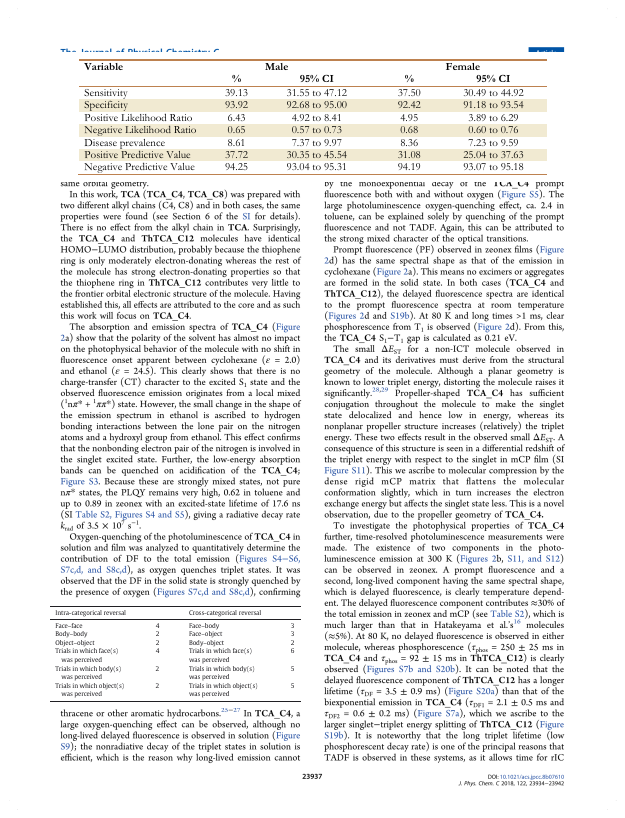borderless: (79, 57, 547, 174), (49, 604, 301, 701)
cell: (83, 125, 197, 137), (83, 162, 195, 174), (83, 112, 193, 124), (83, 150, 191, 162), (54, 682, 125, 699), (188, 682, 259, 699), (54, 664, 122, 681), (188, 664, 256, 681), (54, 647, 119, 664), (188, 647, 253, 664), (83, 137, 165, 149), (285, 88, 347, 100), (462, 88, 524, 100), (285, 100, 347, 112), (462, 100, 524, 112), (285, 150, 347, 162), (462, 150, 524, 162), (285, 162, 347, 174), (462, 162, 524, 174), (290, 112, 342, 124), (467, 112, 519, 124), (290, 125, 342, 137), (467, 125, 519, 137), (290, 137, 342, 149), (467, 137, 519, 149), (188, 609, 262, 617), (54, 609, 127, 617), (83, 88, 128, 100), (83, 100, 128, 112), (83, 61, 124, 71), (444, 61, 480, 71), (54, 639, 96, 647), (298, 74, 334, 83), (475, 74, 511, 83), (54, 630, 89, 639), (188, 630, 223, 639), (223, 88, 248, 100), (396, 88, 421, 100), (223, 100, 248, 112), (396, 100, 421, 112), (223, 150, 248, 162), (396, 150, 421, 162), (223, 162, 248, 174), (396, 162, 421, 174), (188, 639, 225, 647), (263, 61, 289, 71), (188, 622, 220, 630), (54, 622, 84, 630), (226, 112, 246, 124), (226, 125, 246, 137), (226, 137, 246, 149), (399, 112, 418, 124), (399, 125, 418, 137), (399, 137, 418, 149), (230, 74, 241, 83), (403, 74, 414, 83), (290, 630, 296, 639), (290, 647, 296, 656), (290, 664, 296, 673), (290, 622, 296, 630), (290, 639, 296, 647), (290, 682, 296, 690), (155, 630, 160, 639), (155, 647, 160, 656), (155, 664, 160, 673), (155, 622, 160, 630), (155, 639, 160, 647), (155, 682, 160, 690)
